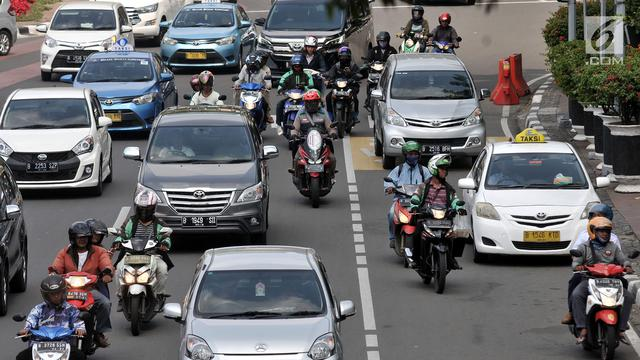plate: (524, 231, 562, 243), (183, 216, 215, 227), (26, 161, 59, 171), (419, 145, 450, 155), (37, 343, 66, 353), (124, 255, 151, 265), (428, 220, 453, 230), (101, 112, 122, 123), (596, 280, 621, 289), (67, 291, 87, 301), (304, 164, 324, 173), (186, 51, 208, 59), (66, 54, 85, 63), (399, 198, 414, 207), (243, 89, 259, 97), (286, 104, 301, 112), (333, 90, 351, 95), (369, 73, 380, 79)
